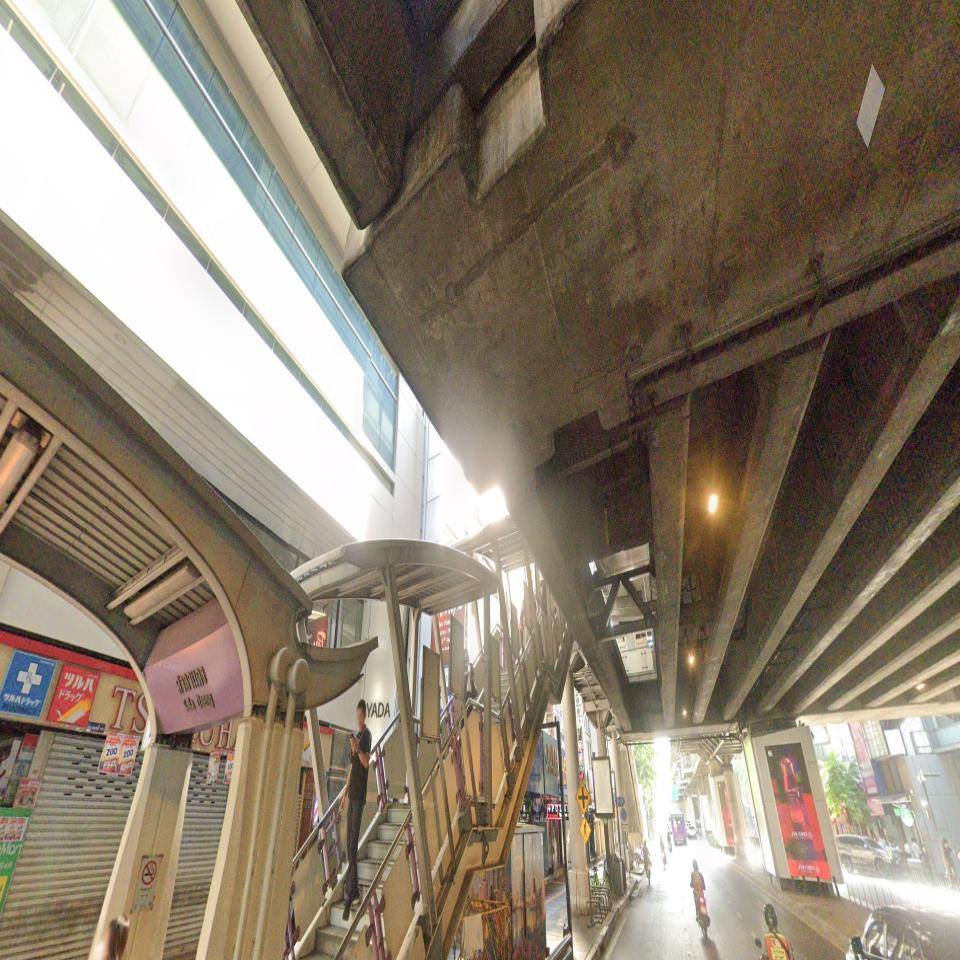Sala Daeng: (144, 620, 245, 737)
